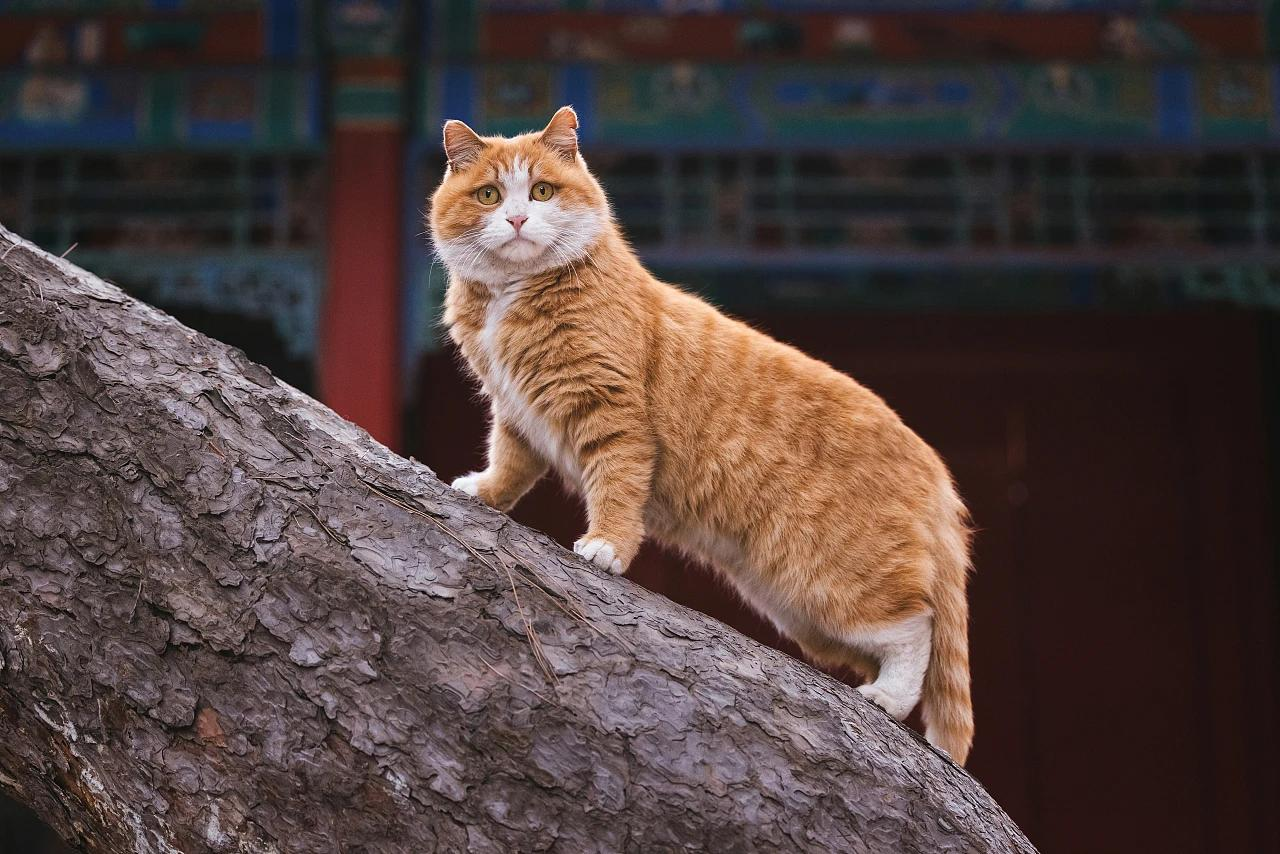橘猫: (430, 107, 968, 703)
